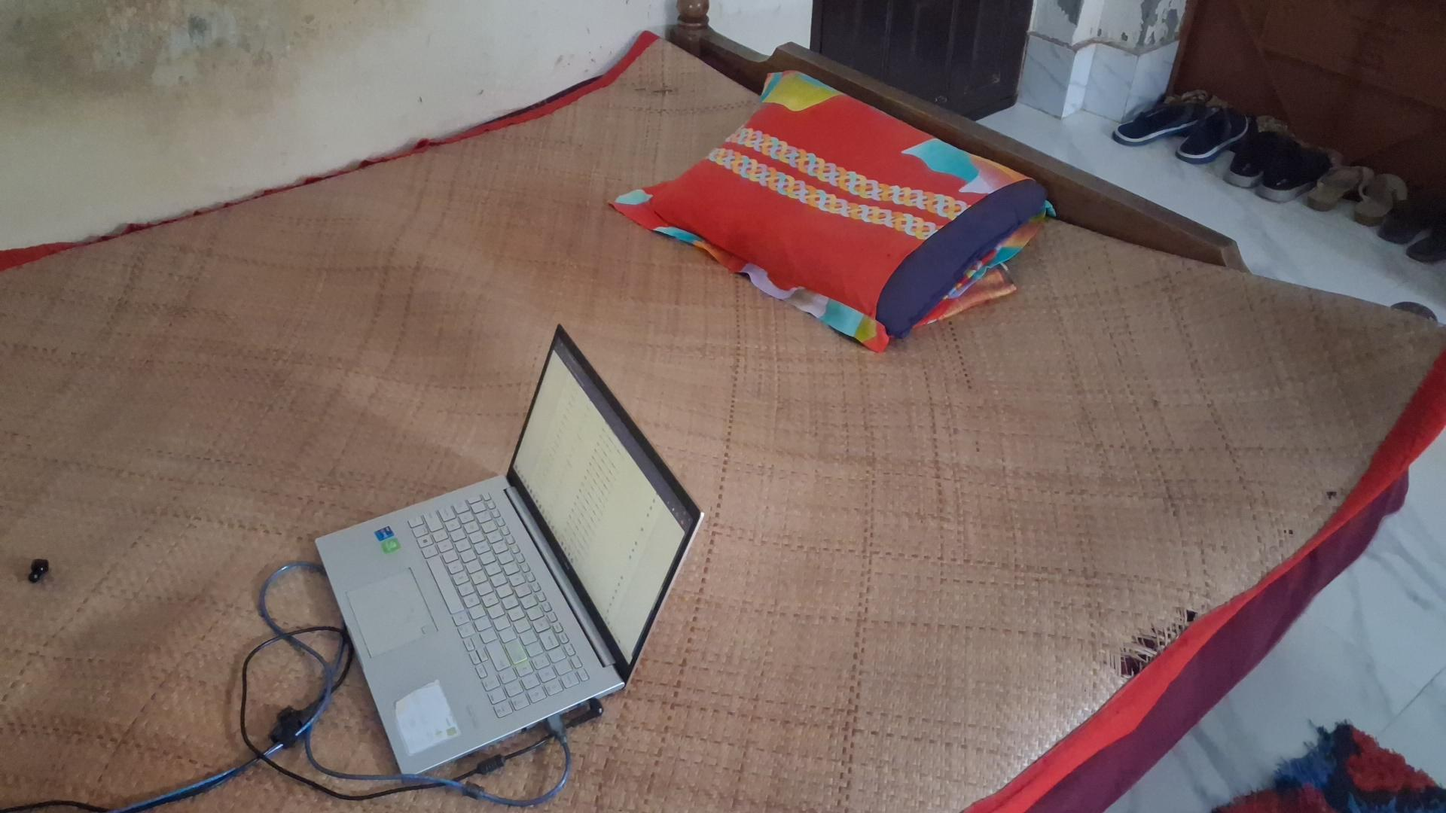Footwear: (1115, 91, 1248, 161), (1223, 126, 1331, 202), (1309, 168, 1407, 227), (1354, 151, 1357, 168)
Laptop: (312, 321, 705, 777)
Pillow: (606, 71, 1052, 353)
